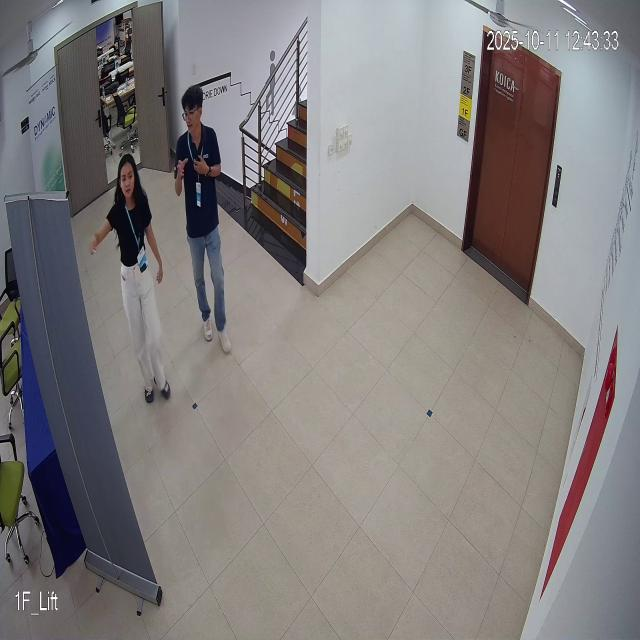face: (115, 151, 143, 206), (179, 80, 206, 136)
